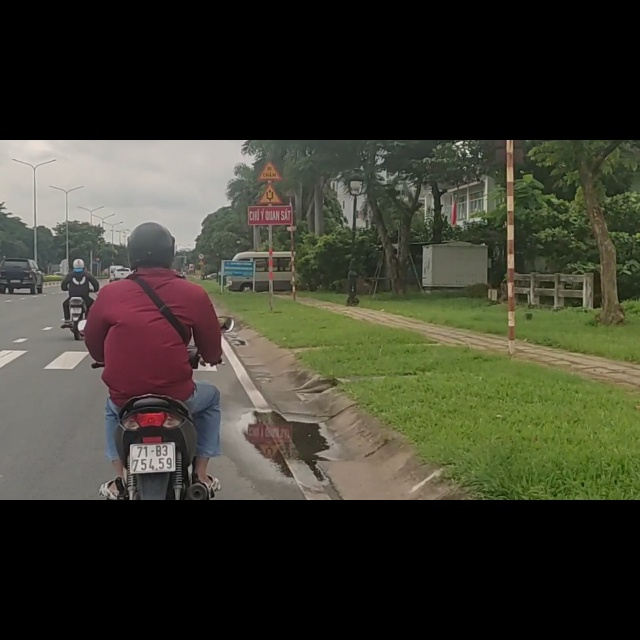bien_nguy_hiem: (257, 76, 285, 113), (259, 36, 282, 72), (95, 206, 101, 217), (96, 217, 101, 224)
